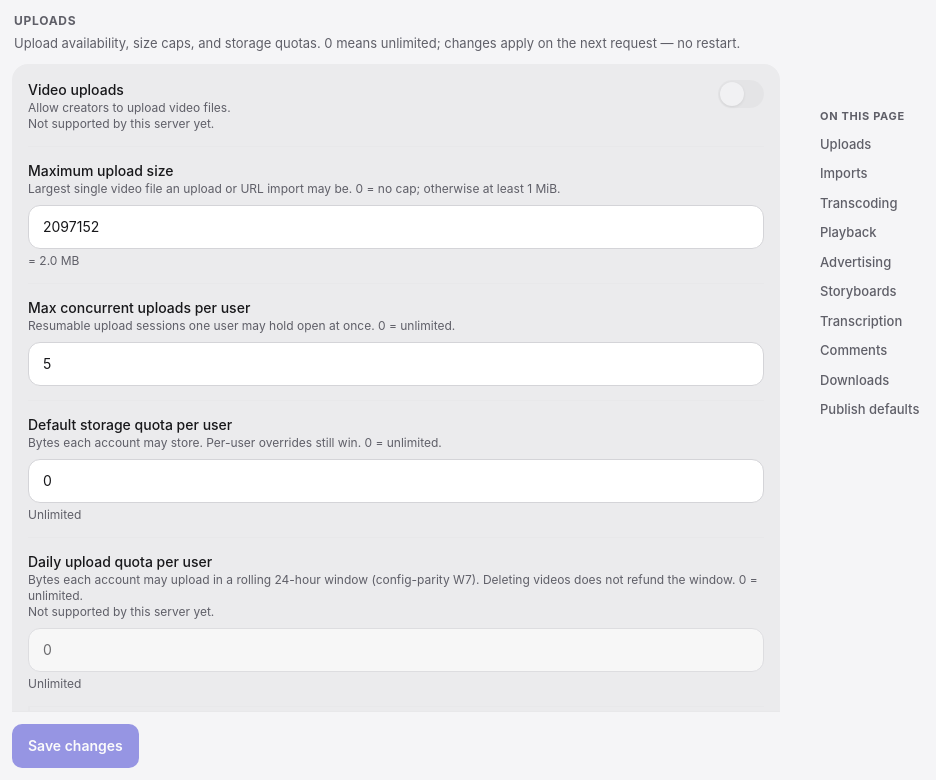
Test: page placement and progressive disclosure › discard resets every pending edit back to the server truth
Replace the text in the number field named "Max concurrent uploads per user" with "9": (396, 364) [28,342,764,386]
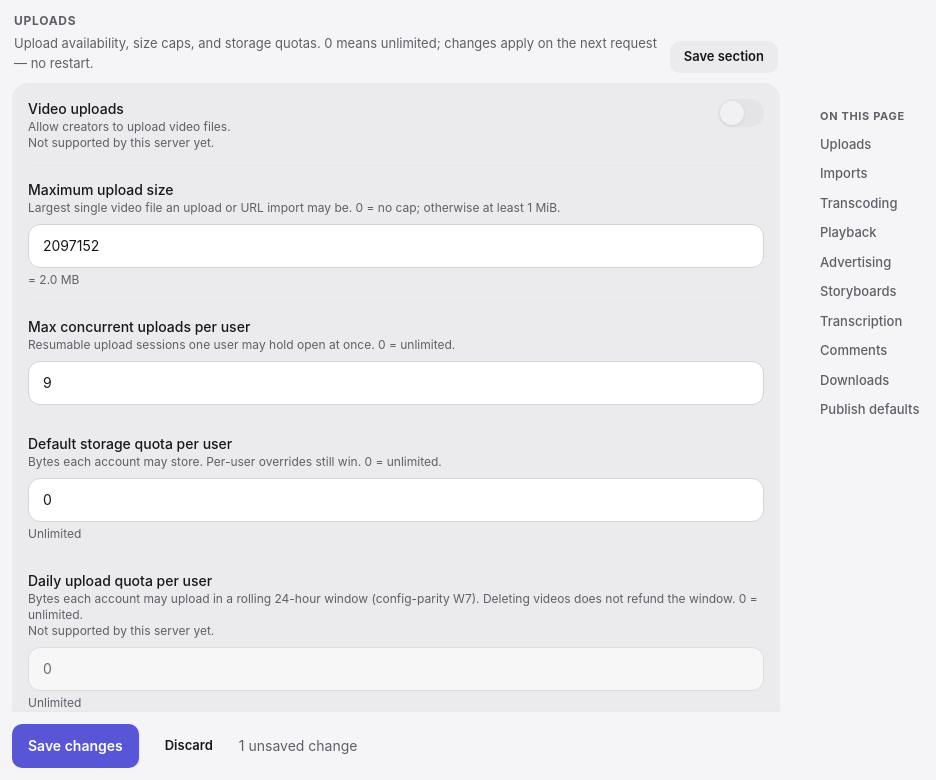
Expected: the text "1 unsaved change" is shown, [239,736,358,756]
Click the button "Discard": (189, 746) [151,730,227,762]
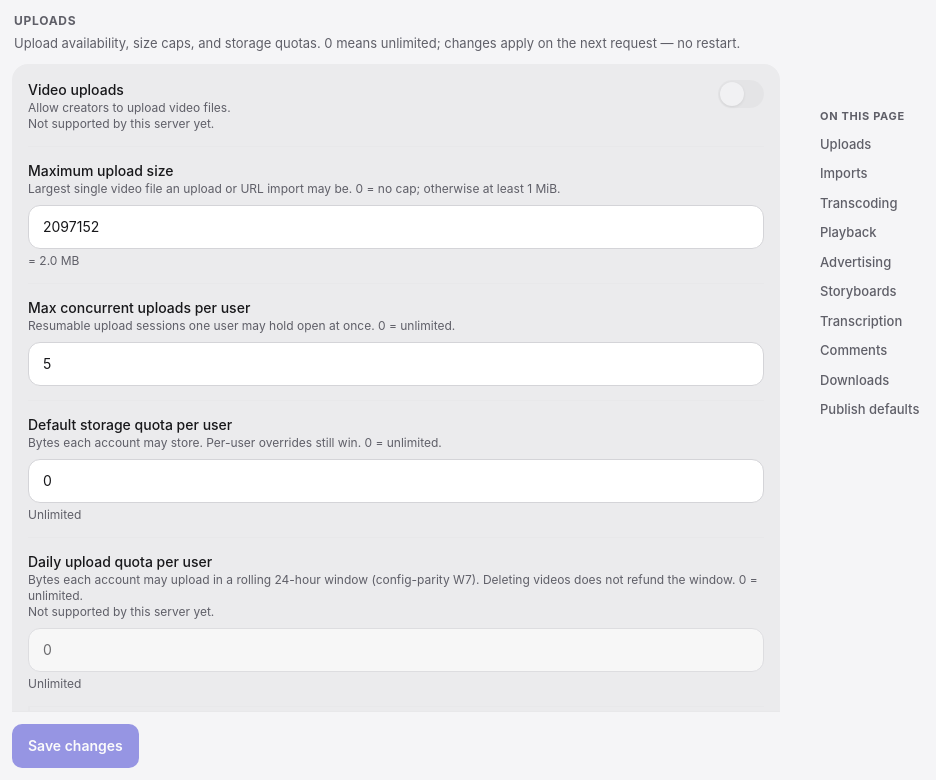
Expected: the number field named "Max concurrent uploads per user" holds "5", [28,342,764,386]
Expected: the text "1 unsaved change" is gone
